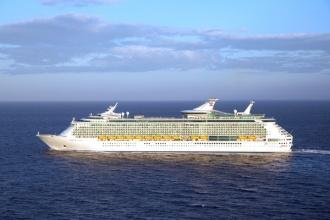youlun: (39, 95, 297, 152)
